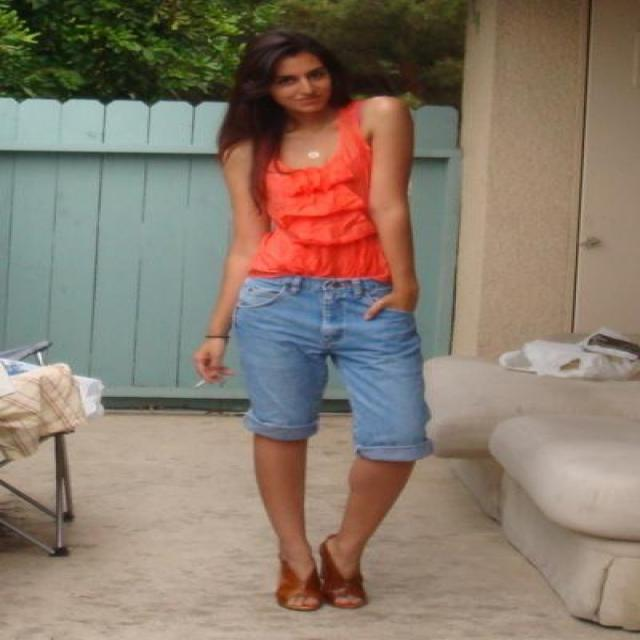pants: (230, 275, 430, 461)
shirt: (254, 115, 386, 278)
shoe: (276, 551, 362, 608)
